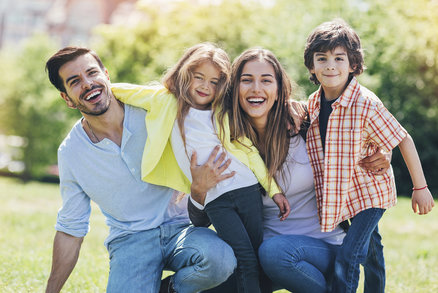Person: (29, 41, 235, 293), (114, 41, 288, 293), (301, 16, 436, 289), (227, 44, 343, 293)
